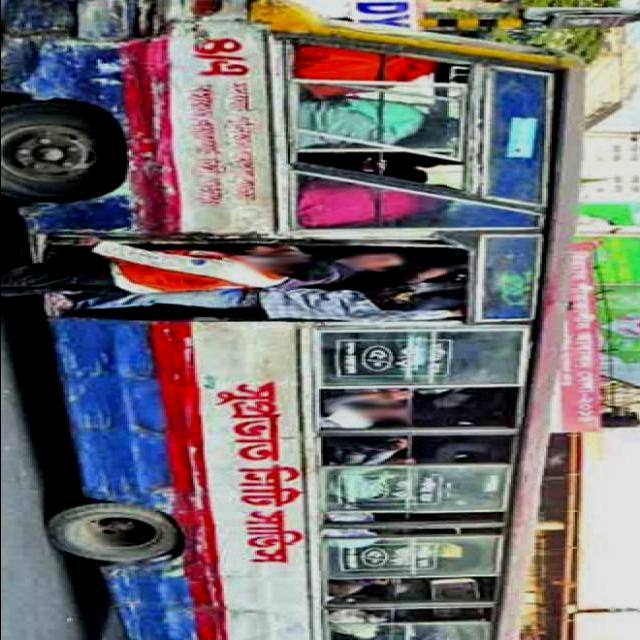bus: (3, 2, 589, 640)
